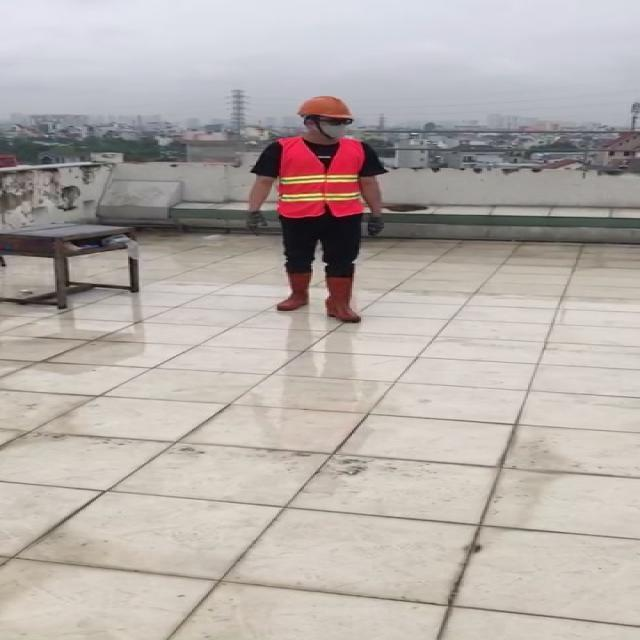gloves: (245, 209, 269, 236), (367, 214, 385, 237)
goggles: (317, 116, 352, 126)
helmet: (295, 94, 356, 120)
safety_vest: (279, 138, 366, 216)
